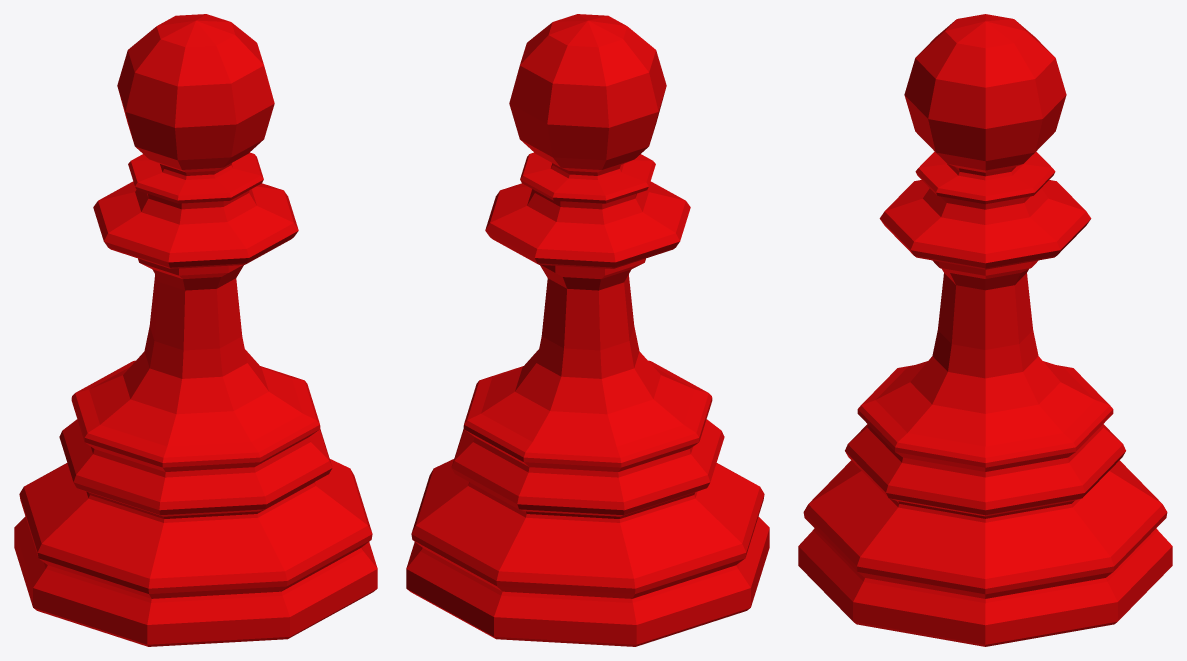
The model's file is PLAYER_RED_pawn.glb.
3 renders of one model, left to right at view 1: azimuth 30°, elevation 25°; view 2: azimuth 150°, elevation 25°; view 3: azimuth 270°, elevation 25°, orthographic.
Parts seen in each view (by area): view 1: Pawn.001_1; view 2: Pawn.001_1; view 3: Pawn.001_1.
Part boxes in pixels (bbox=[...]): Pawn.001_1: bbox=[14, 14, 377, 646]; Pawn.001_1: bbox=[406, 14, 769, 646]; Pawn.001_1: bbox=[798, 14, 1172, 646].
Bounding box in the file's own units: 0.3 × 0.485 × 0.3.
